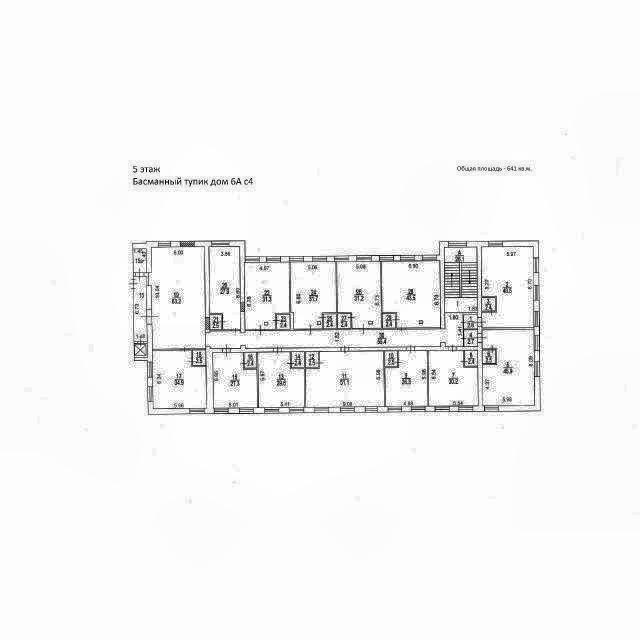room: (148, 245, 478, 349), (305, 351, 384, 407), (481, 246, 534, 328), (482, 330, 535, 406), (382, 261, 440, 328), (153, 350, 207, 409), (244, 262, 290, 330), (290, 262, 336, 329), (337, 262, 381, 329), (428, 351, 478, 406), (209, 247, 241, 330), (258, 352, 305, 408), (213, 352, 257, 408), (385, 351, 428, 407), (133, 276, 147, 342), (133, 249, 146, 273), (464, 330, 477, 346), (465, 350, 478, 366), (291, 352, 304, 368), (337, 314, 351, 328), (193, 350, 206, 365), (323, 314, 336, 329), (382, 313, 395, 328), (385, 351, 397, 367), (244, 352, 256, 368), (306, 352, 318, 368), (134, 344, 147, 358), (277, 315, 290, 329), (464, 315, 477, 329), (482, 350, 495, 364), (482, 298, 495, 311), (210, 315, 221, 329)
